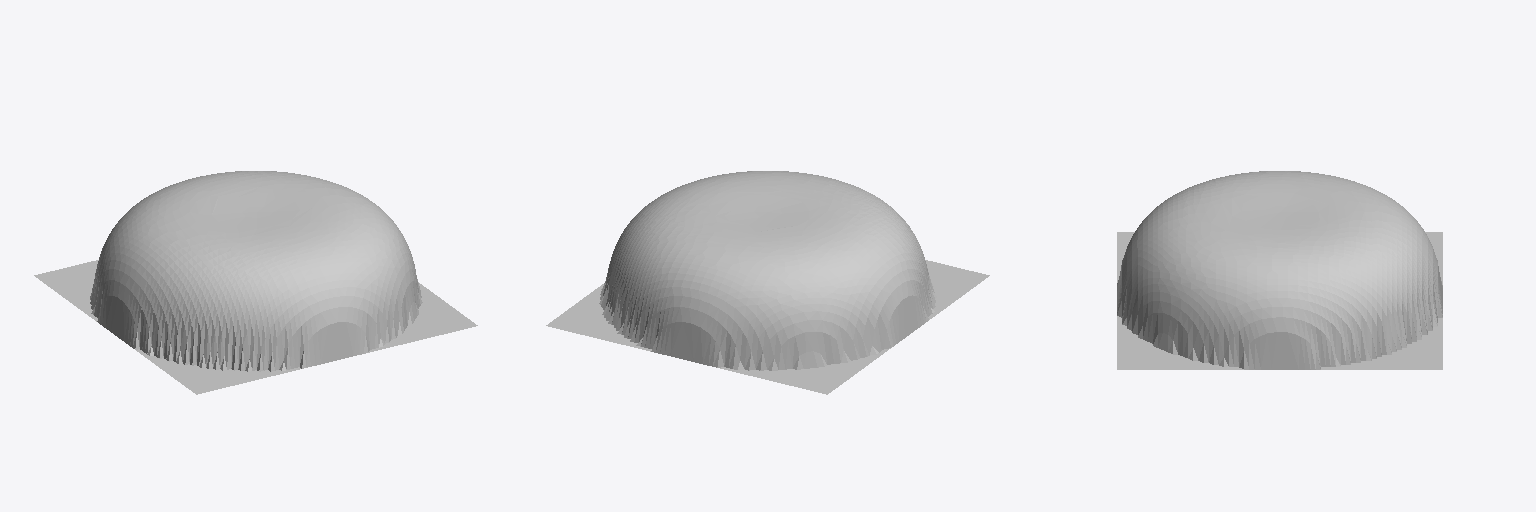
Rendered from maailma.obj.
3 views of the same model, side by side, from view 1: azimuth 30°, elevation 25°; view 2: azimuth 150°, elevation 25°; view 3: azimuth 270°, elevation 25° (orthographic).
Visible parts, largest first — view 1: Plane; view 2: Plane; view 3: Plane.
Part boxes in pixels (x1,y1,x2,y2): Plane: (34,171,477,394); Plane: (546,171,989,394); Plane: (1117,171,1442,369).
Bounding box in the file's own units: 20 × 6.07 × 20.